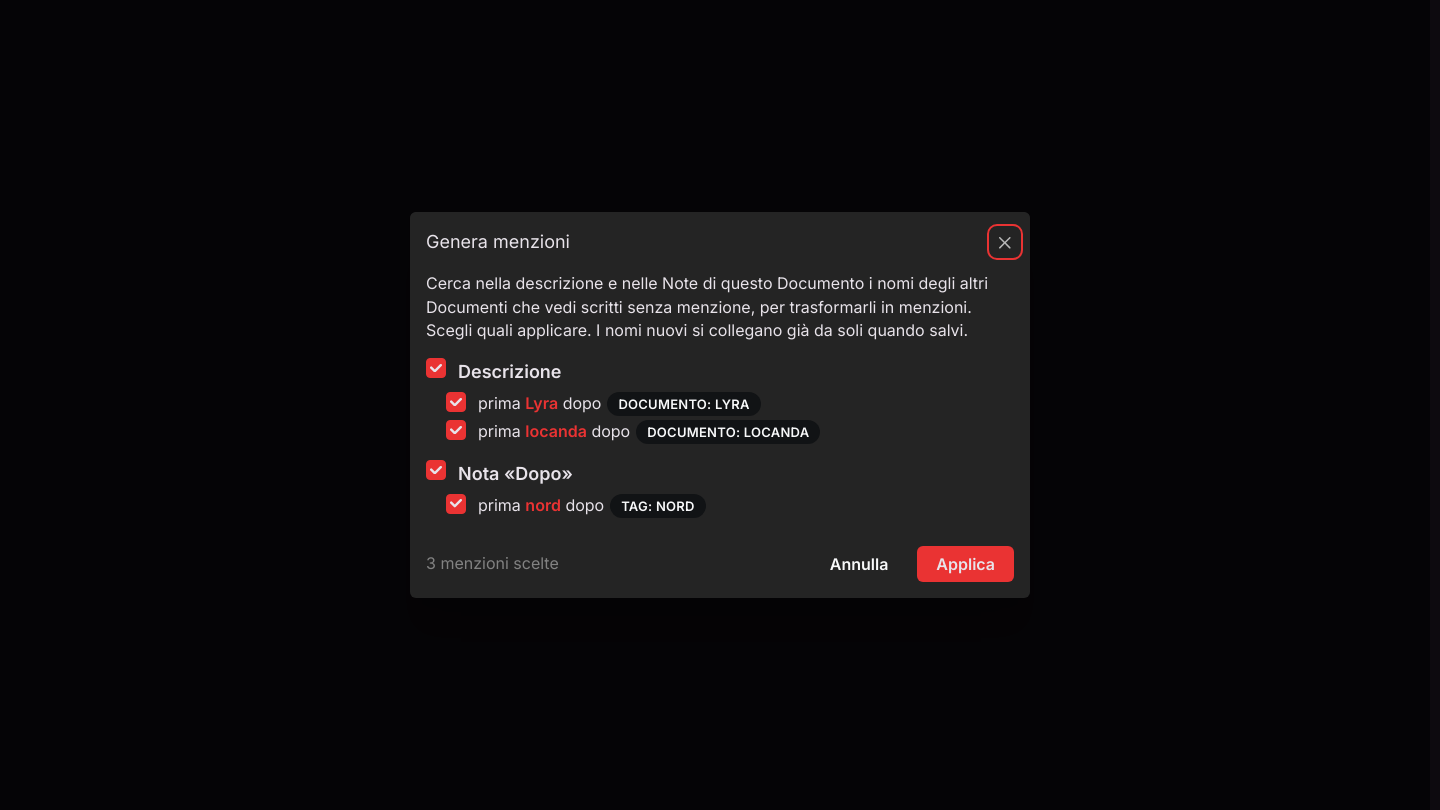
Test: GenerateMentionsModal › reloads the preview when a text changed since it was made
Click the checkbox named "Collega «Lyra» a Lyra" at (456, 402), box [446,392,466,412]
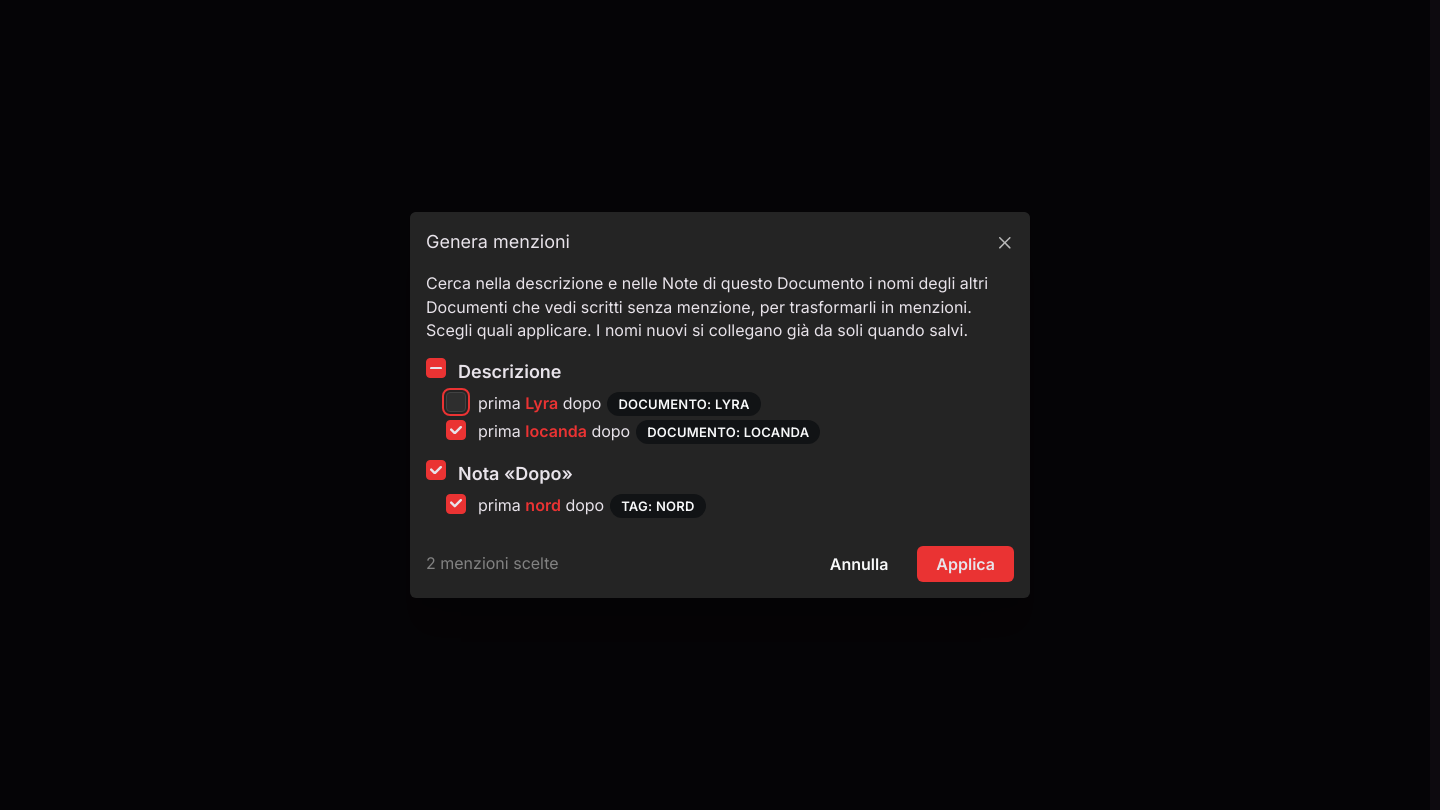
Click the button "Applica" at (966, 564), box [917,546,1014,582]
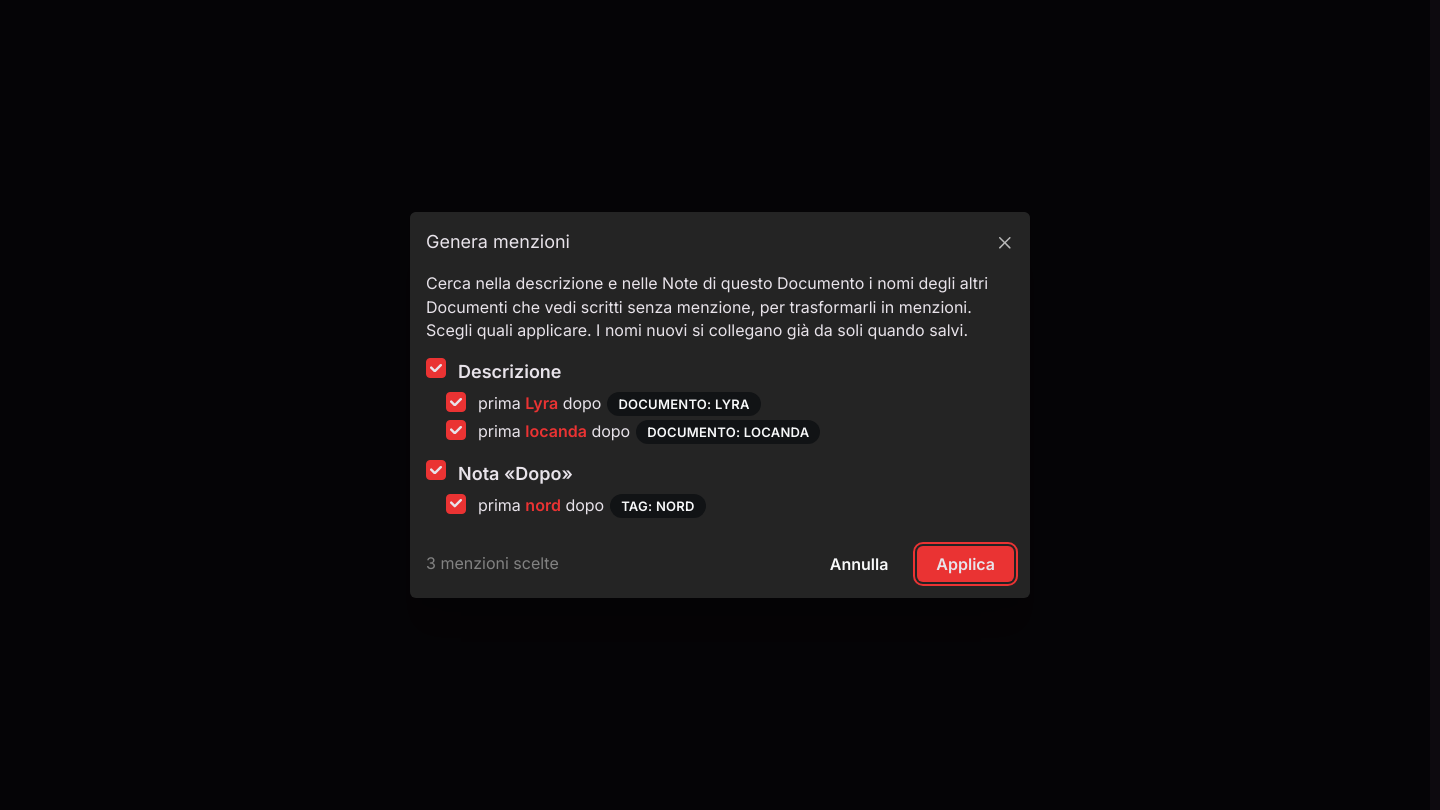
Result: the text "3 menzioni scelte" is shown at [426,552,559,575]
